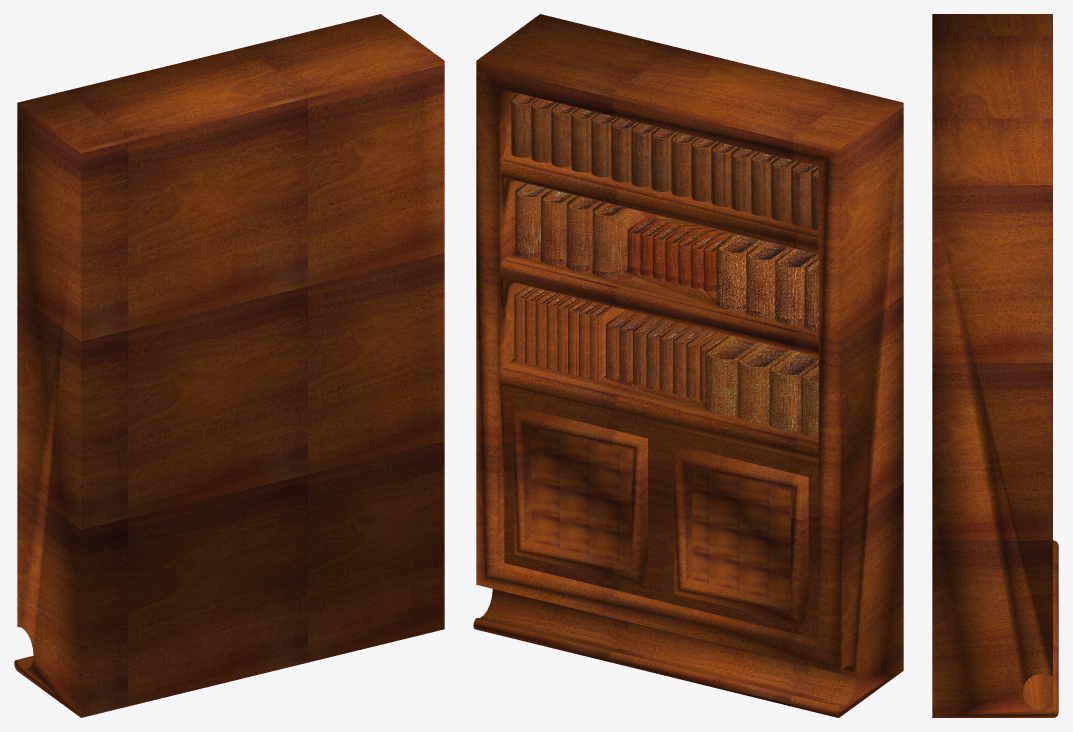
3 renders of one model, left to right at view 1: azimuth 30°, elevation 25°; view 2: azimuth 150°, elevation 25°; view 3: azimuth 270°, elevation 25°, orthographic. The views are drawn at different scales.
Visible parts, largest first — view 1: mesh1_mesh1-geometry; view 2: mesh1_mesh1-geometry; view 3: mesh1_mesh1-geometry.
Part boxes in pixels (x1,y1,x2,y2): mesh1_mesh1-geometry: [14, 14, 444, 717]; mesh1_mesh1-geometry: [473, 14, 903, 717]; mesh1_mesh1-geometry: [932, 14, 1058, 717].
Size of the model in its own units: 0.5475 by 0.8184 by 0.1743.
